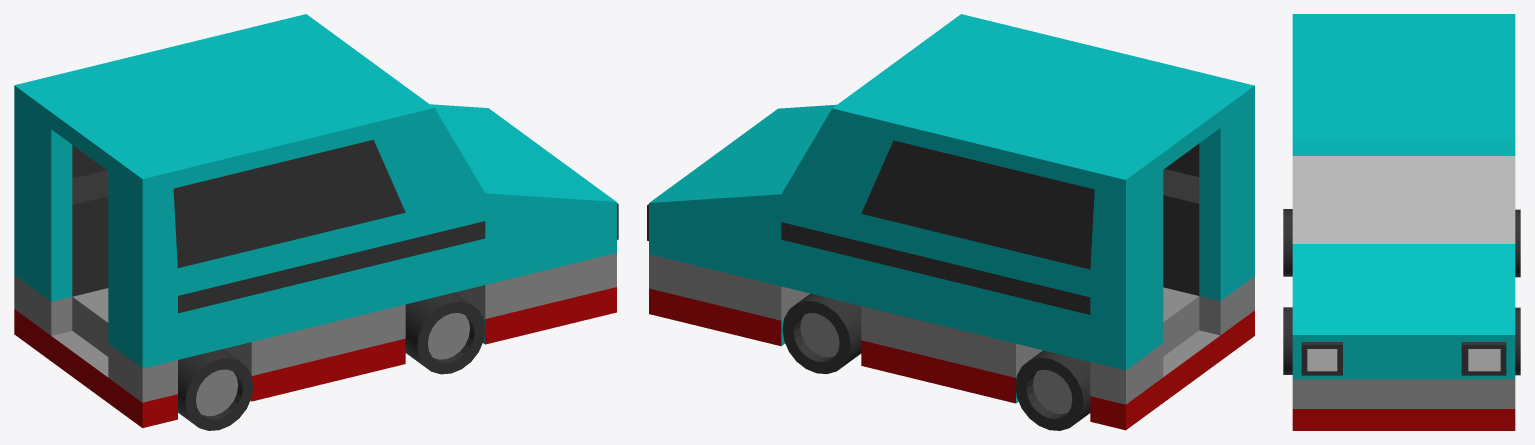
The model's file is car.fbx.
3 views of the same model, side by side, from view 1: azimuth 30°, elevation 25°; view 2: azimuth 150°, elevation 25°; view 3: azimuth 270°, elevation 25° (orthographic). The views are drawn at different scales.
Parts seen in each view (by area): view 1: polySurface8, polySurface13, polySurface9; view 2: polySurface8, polySurface10, polySurface14; view 3: polySurface8, polySurface9, polySurface13, polySurface10, polySurface14.
Boxes of the visible parts, bbox=[...] form: polySurface8: bbox=[14, 14, 618, 428]; polySurface13: bbox=[405, 292, 485, 374]; polySurface9: bbox=[178, 349, 253, 430]; polySurface8: bbox=[647, 14, 1254, 430]; polySurface10: bbox=[782, 293, 861, 373]; polySurface14: bbox=[1015, 350, 1090, 430]; polySurface8: bbox=[1292, 14, 1515, 430]; polySurface9: bbox=[1283, 209, 1292, 276]; polySurface13: bbox=[1283, 307, 1292, 374]; polySurface10: bbox=[1515, 307, 1520, 375]; polySurface14: bbox=[1515, 209, 1520, 277].
Bounding box in the file's own units: 7.46 × 3.92 × 3.67.
